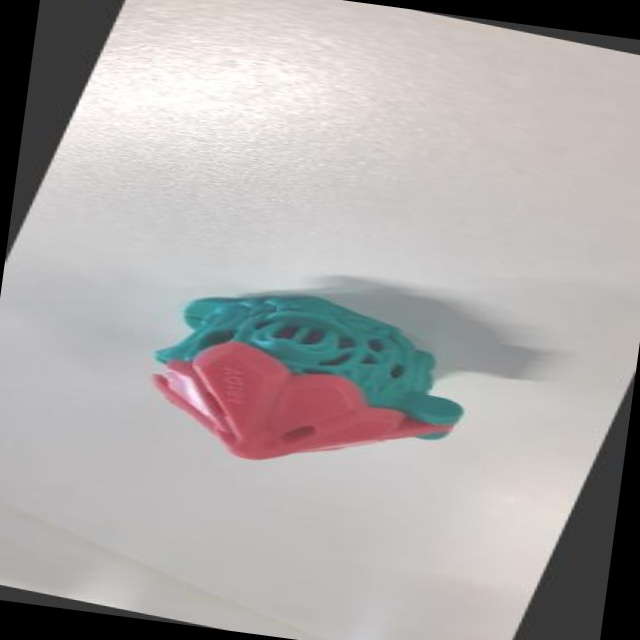House: (90, 251, 518, 514)
